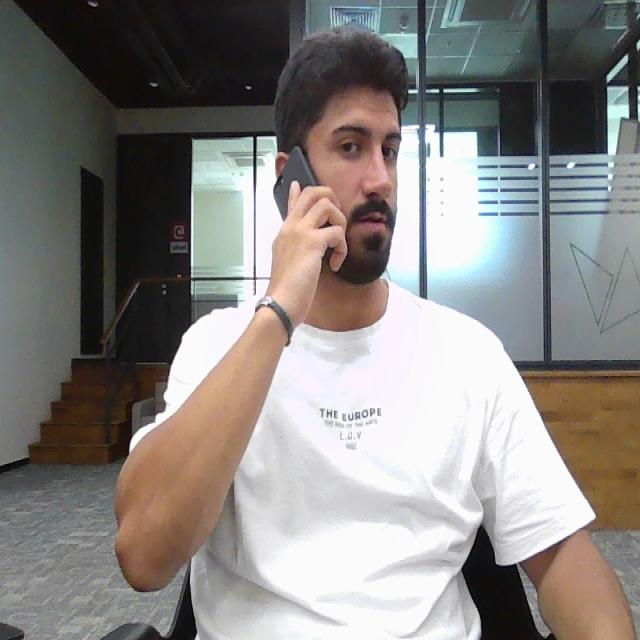phone: (270, 149, 312, 200)
